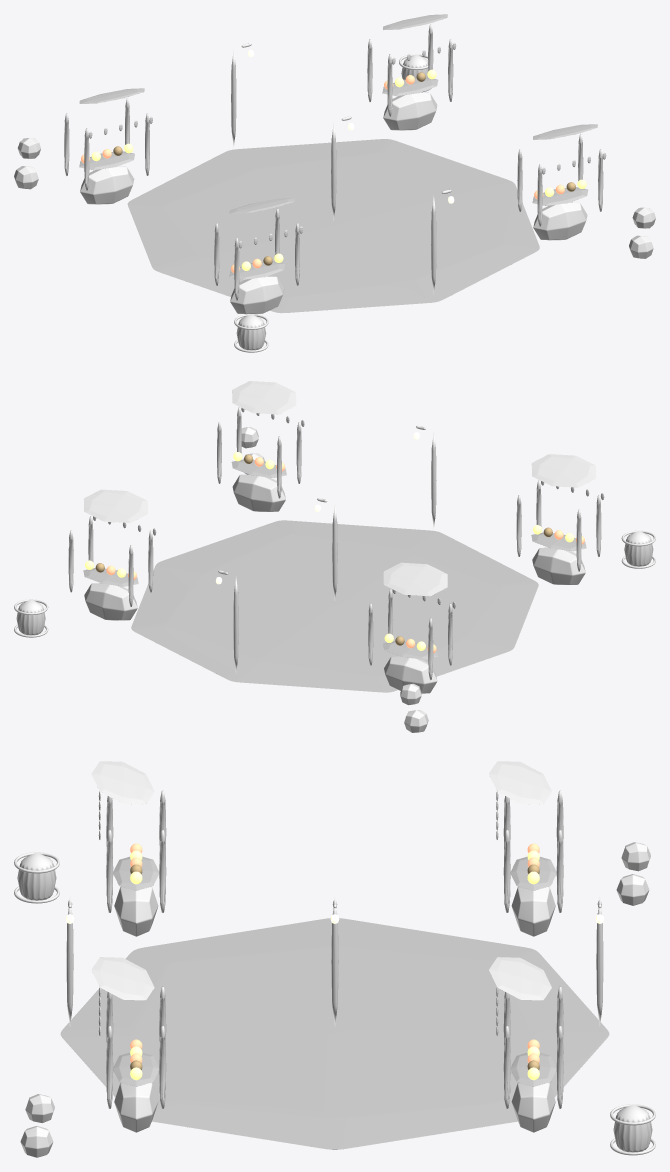
File: district_market_r2_v3.glb
3 renders of one model, top to bottom at view 1: azimuth 30°, elevation 25°; view 2: azimuth 150°, elevation 25°; view 3: azimuth 270°, elevation 25°, orthographic. The views are drawn at different scales.
Parts seen in each view (by area): view 1: planks, stall_ne_counter, stall_se_counter, stall_nw_counter, stall_sw_counter, barrel_1, stall_ne_counter_top, stall_sw_counter_top, stall_nw_counter_top, stall_se_counter_top, stall_nw_awning, stall_sw_awning (+2 smaller); view 2: planks, stall_se_awning, stall_nw_awning, stall_sw_awning, stall_ne_awning, stall_ne_counter, stall_se_counter, stall_sw_counter, stall_nw_counter, barrel_0, barrel_1, stall_ne_counter_top (+3 smaller); view 3: planks, stall_sw_awning, stall_se_awning, stall_nw_awning, stall_ne_awning, stall_nw_counter, stall_sw_counter, stall_ne_counter, stall_se_counter, barrel_0, barrel_1, stall_nw_counter_top (+10 smaller).
Part boxes in pixels (x1,y1,x2,y2): planks: (127,139,539,313); stall_ne_counter: (383,92,437,130); stall_se_counter: (533,202,587,240); stall_nw_counter: (80,166,134,204); stall_sw_counter: (230,276,284,314); barrel_1: (236,314,266,350); stall_ne_counter_top: (382,77,438,96); stall_sw_counter_top: (229,261,284,279); stall_nw_counter_top: (79,151,134,170); stall_se_counter_top: (532,187,588,205); stall_nw_awning: (79,88,144,103); stall_sw_awning: (229,198,294,213); planks: (131,520,538,692); stall_se_awning: (232,381,296,414); stall_nw_awning: (383,562,447,596); stall_sw_awning: (531,454,595,487); stall_ne_awning: (84,489,147,522); stall_ne_counter: (84,583,137,620); stall_se_counter: (232,474,285,511); stall_sw_counter: (532,547,585,584); stall_nw_counter: (384,656,437,693); barrel_0: (16,599,45,635); barrel_1: (624,531,653,566); stall_ne_counter_top: (83,568,138,586); planks: (60,918,609,1149); stall_sw_awning: (91,761,154,804); stall_se_awning: (91,957,154,1000); stall_nw_awning: (489,761,551,804); stall_ne_awning: (489,957,551,1000); stall_nw_counter: (511,886,555,936); stall_sw_counter: (114,886,158,936); stall_ne_counter: (511,1082,555,1132); stall_se_counter: (114,1082,158,1132); barrel_0: (613,1104,652,1152); barrel_1: (17,852,56,900); stall_nw_counter_top: (510,856,556,890).
Size of the model in its own units: 9.69 by 2.74 by 9.69.
